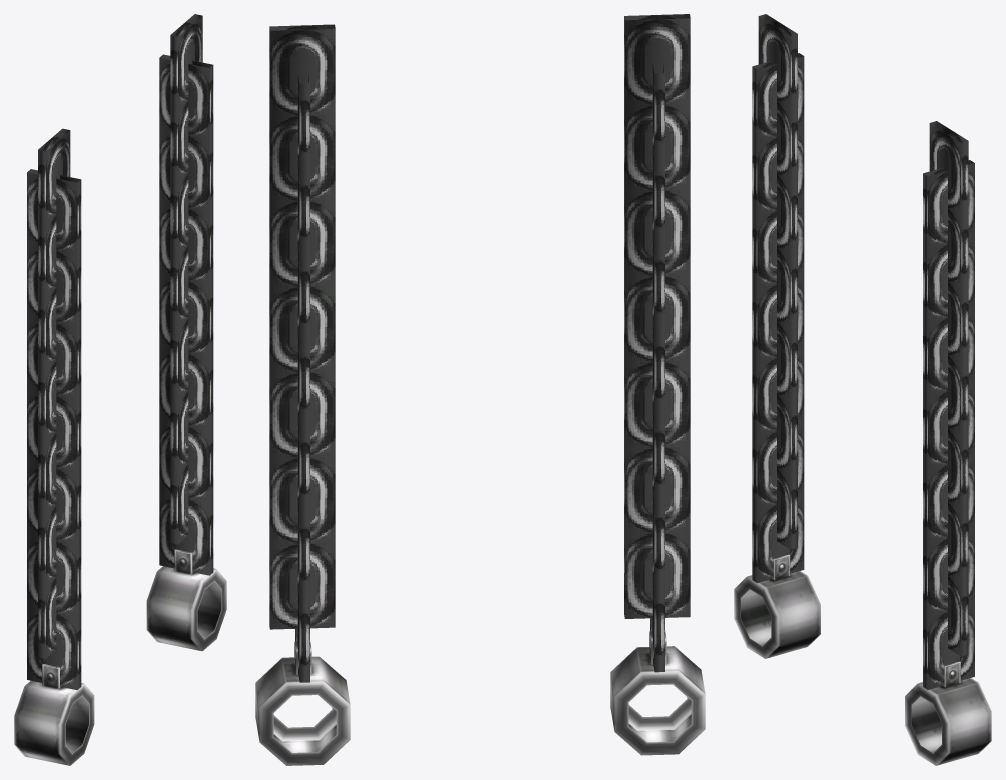
File: SWORDLIGHT20_INST_CHAINCUFFS_LOD1_01.fbx
3 renders of one model, left to right at view 1: azimuth 30°, elevation 25°; view 2: azimuth 150°, elevation 25°; view 3: azimuth 270°, elevation 25°, orthographic. The views are drawn at different scales.
Parts seen in each view (by area): view 1: SWORDLIGHT20_INST_CHAINCUFFS_LOD1_01; view 2: SWORDLIGHT20_INST_CHAINCUFFS_LOD1_01; view 3: SWORDLIGHT20_INST_CHAINCUFFS_LOD1_01.
Boxes of the visible parts, x1=… form: SWORDLIGHT20_INST_CHAINCUFFS_LOD1_01: x1=14, y1=14, x2=226, y2=765; SWORDLIGHT20_INST_CHAINCUFFS_LOD1_01: x1=255, y1=14, x2=705, y2=765; SWORDLIGHT20_INST_CHAINCUFFS_LOD1_01: x1=734, y1=14, x2=991, y2=765.
Size of the model in its own units: 6122 by 12114 by 4541.
Materials: 2 (2 with a texture image).
